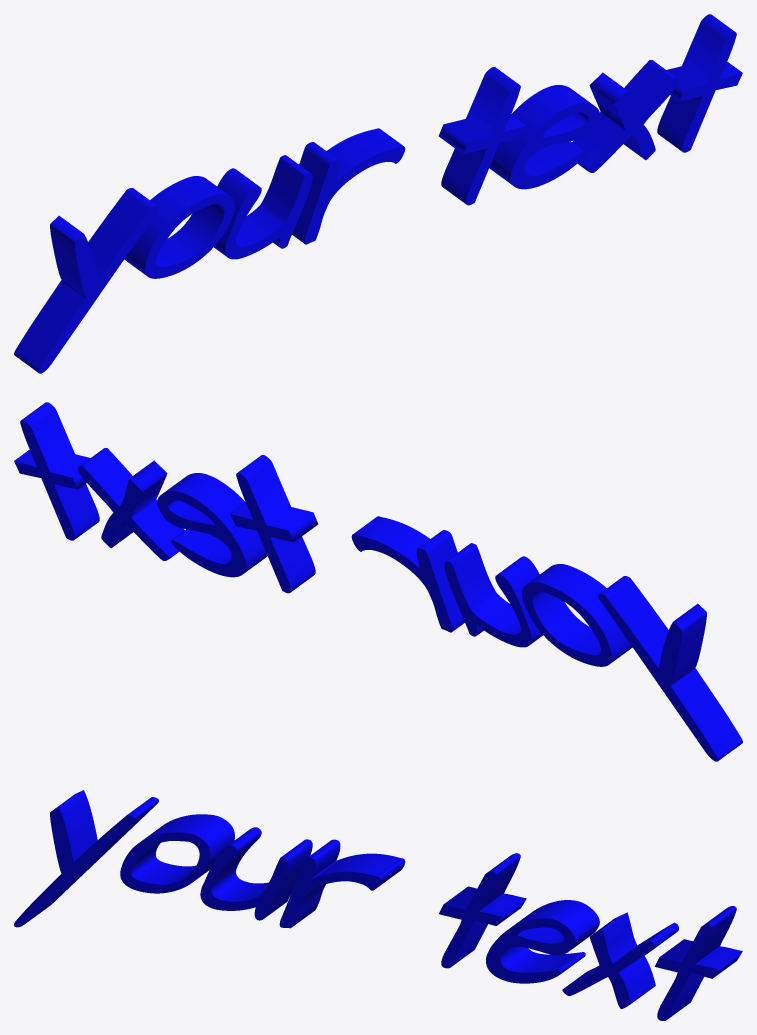
3 views of the same model, one above another, from view 1: azimuth 30°, elevation 25°; view 2: azimuth 150°, elevation 25°; view 3: azimuth 330°, elevation 25° (orthographic).
Visible parts, largest first — view 1: your text; view 2: your text; view 3: your text.
Boxes of the visible parts, x1,y1,x2,y2 form: your text: (14,14,742,373); your text: (14,402,742,761); your text: (14,790,742,1020).
Bounding box in the file's own units: 6.56 × 1.53 × 0.4.
